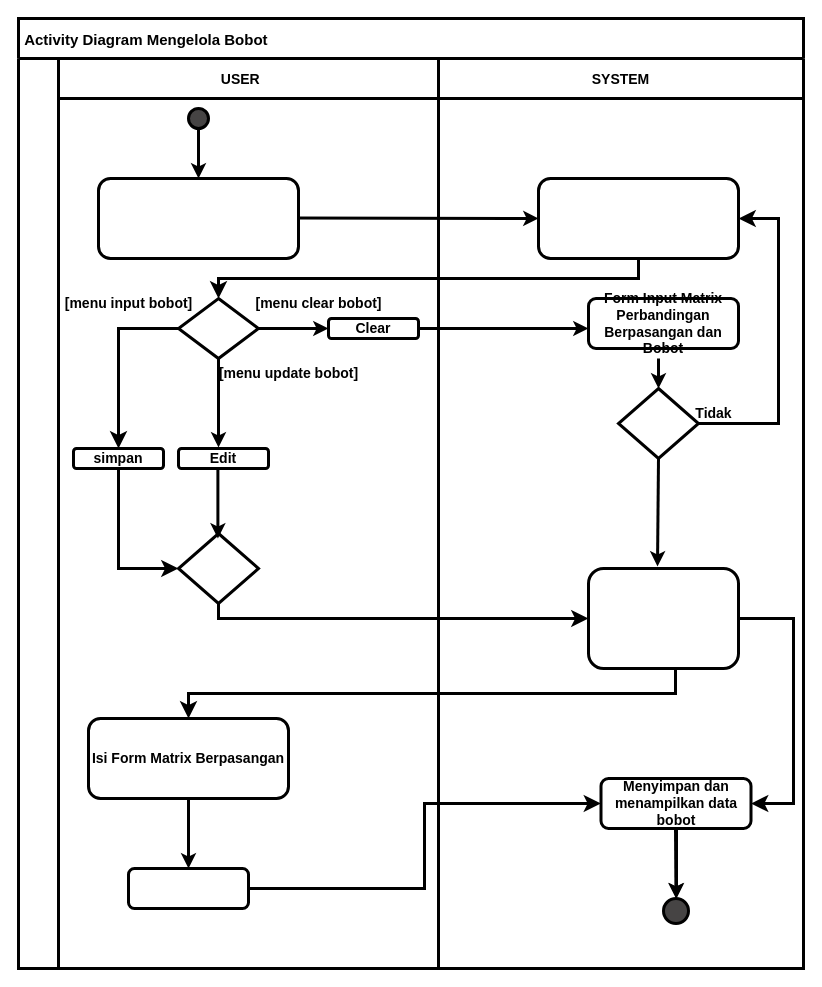
Some shapes in this 822 by 987 pixel diagram are drawn without their labels. Here are the shapes that lost their labels. From the top down, the centre of each, then its label:
(198,218): Memilih Menu Bobot Penilaian
(638,218): Menampilkan Data Matrix, Normalisasi Bobot, Data Hasil Perhitungan Bobot
(663,618): Menampilkan form data bobot, matrix perbandingan, normalisasi matrix
(188,888): Klik Tombol Simpan
